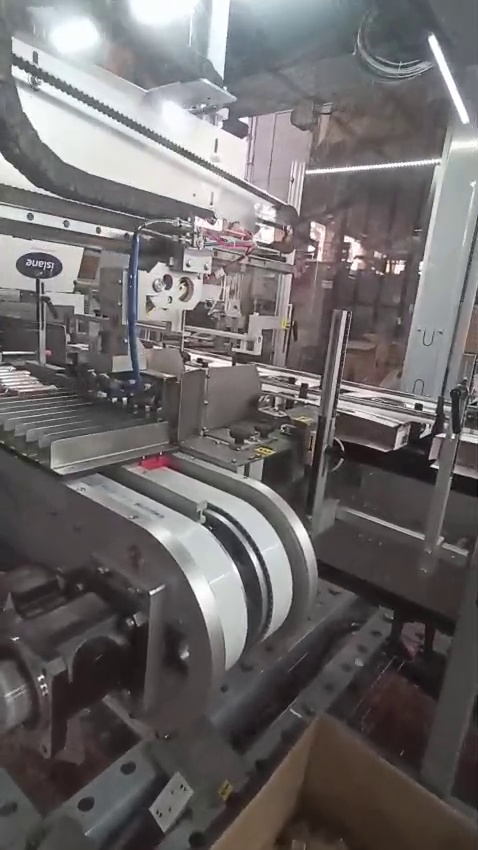savon: (208, 720, 478, 850), (216, 781, 235, 802), (253, 444, 277, 459), (337, 420, 351, 432)
